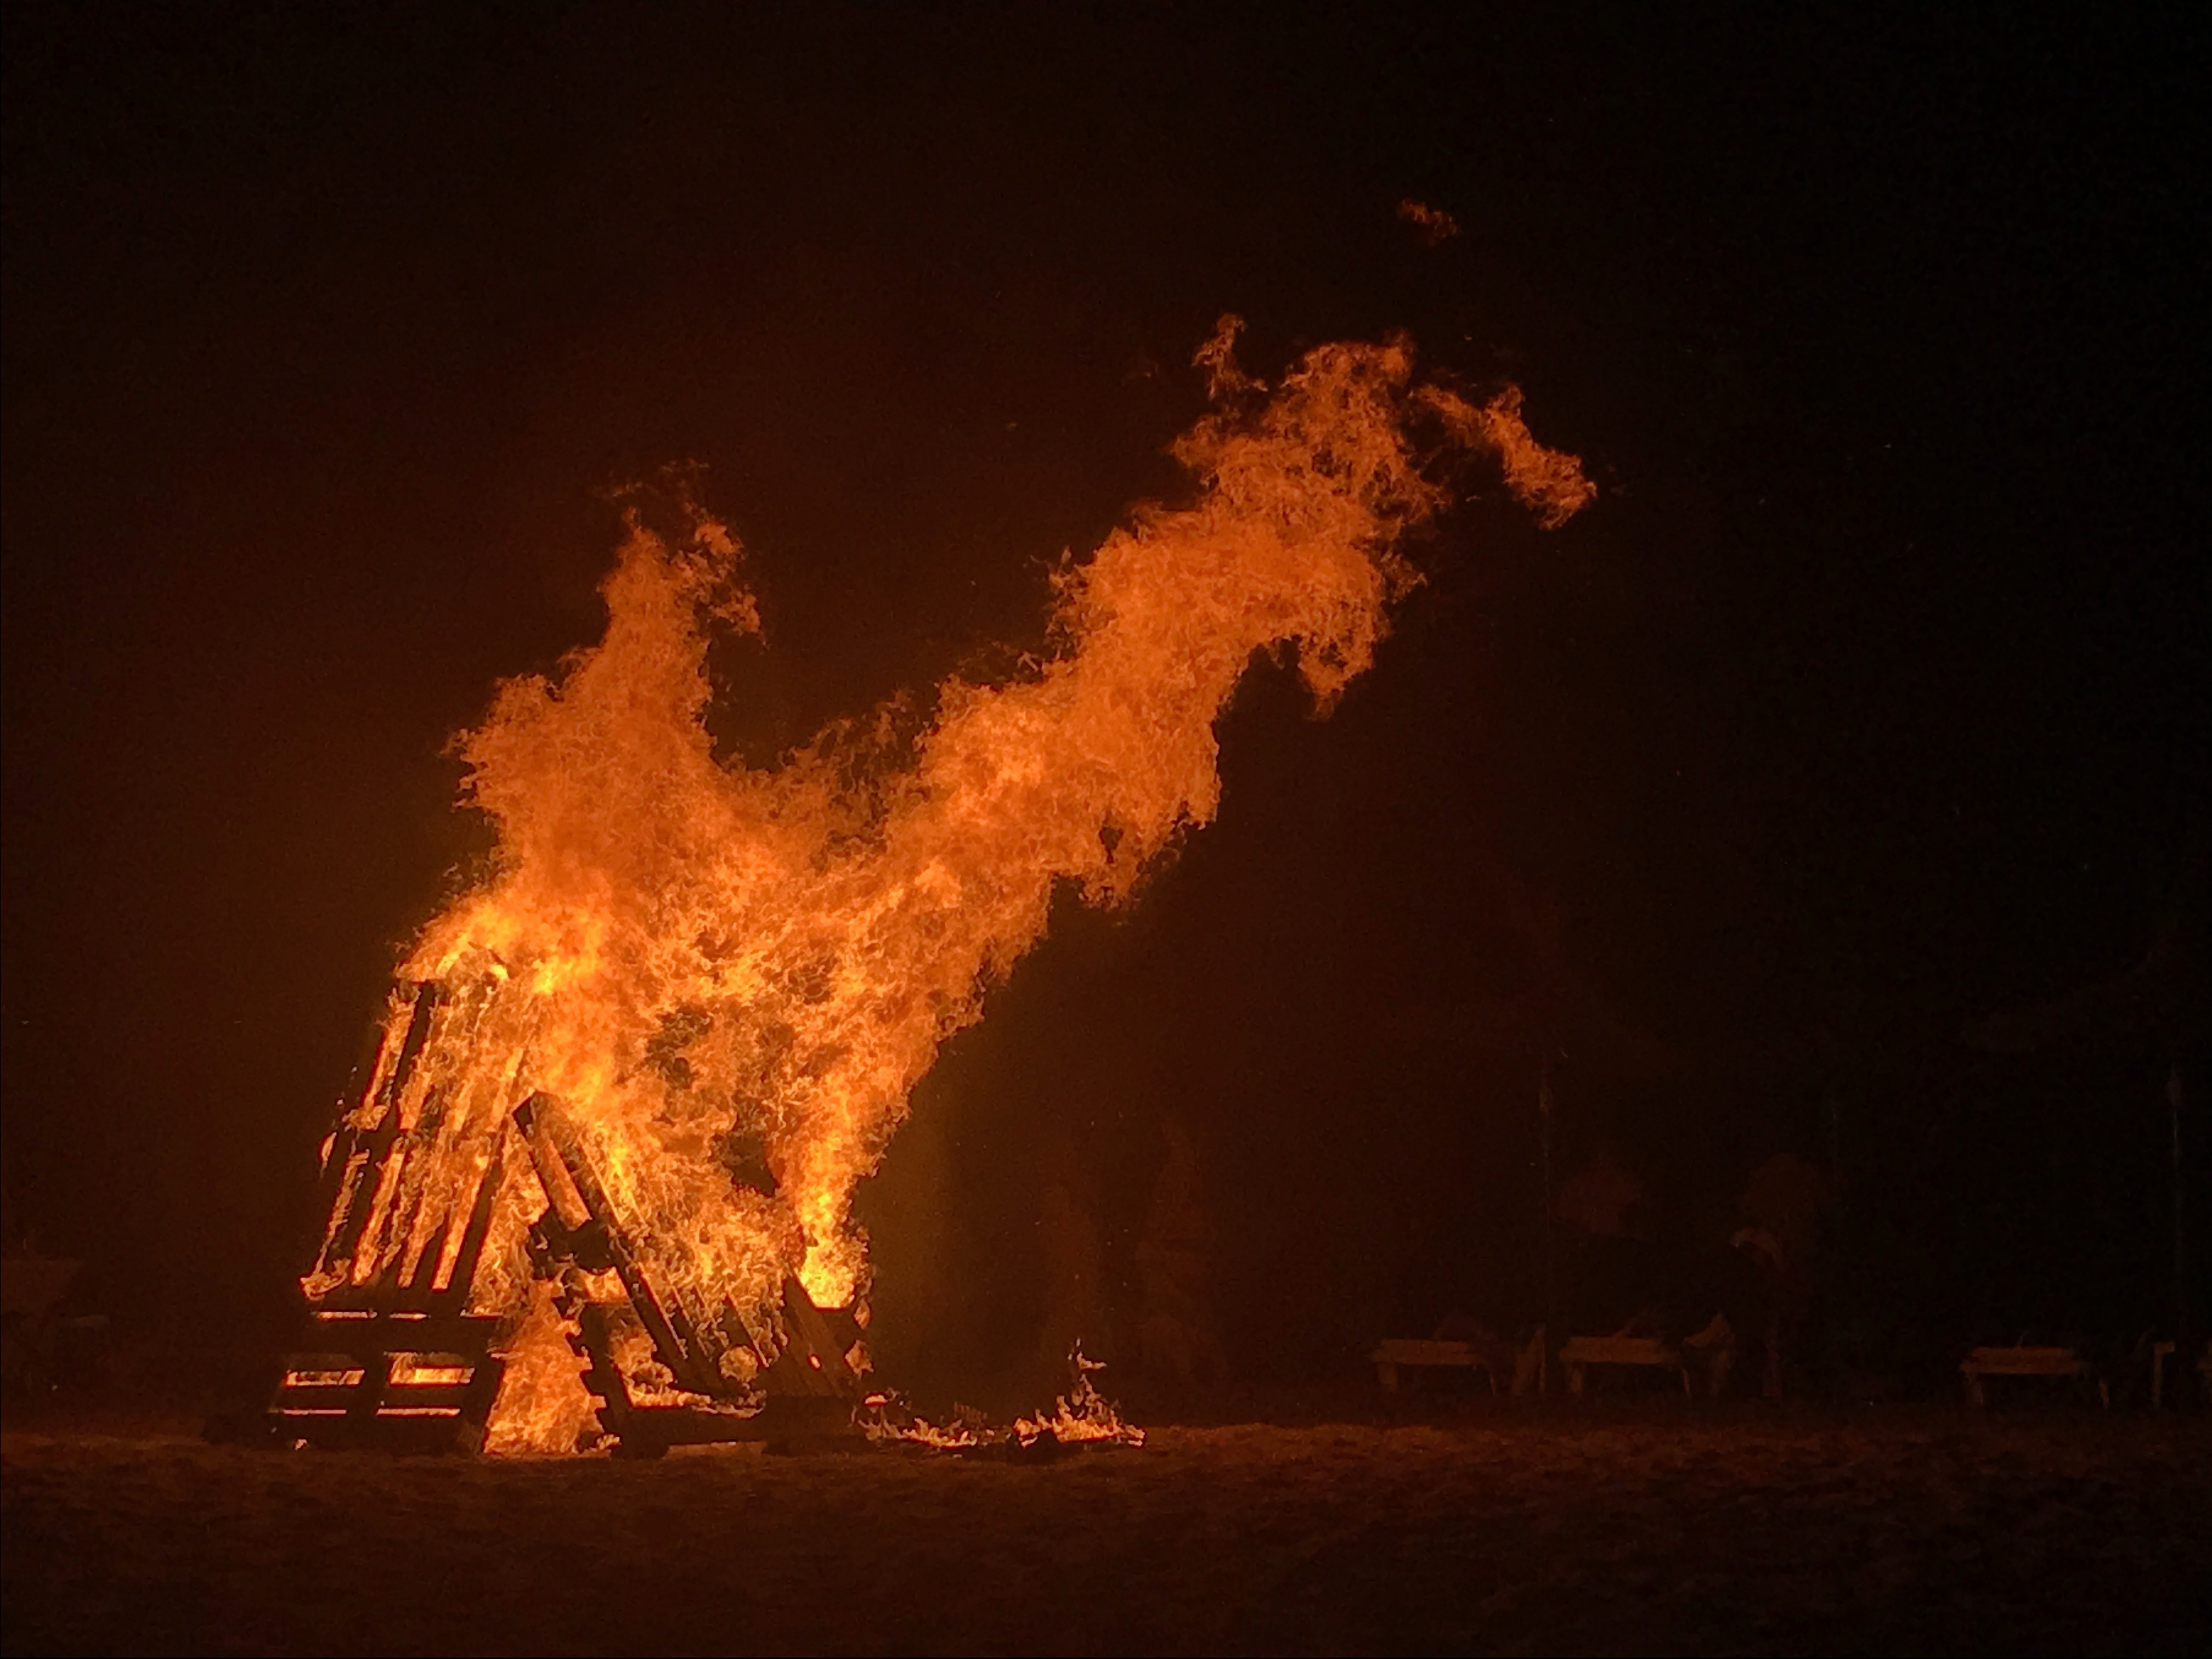fire: (237, 296, 1670, 1460)
